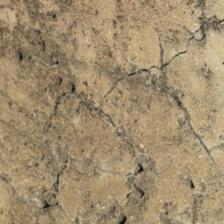Crack: (80, 22, 169, 90), (85, 72, 139, 152)
